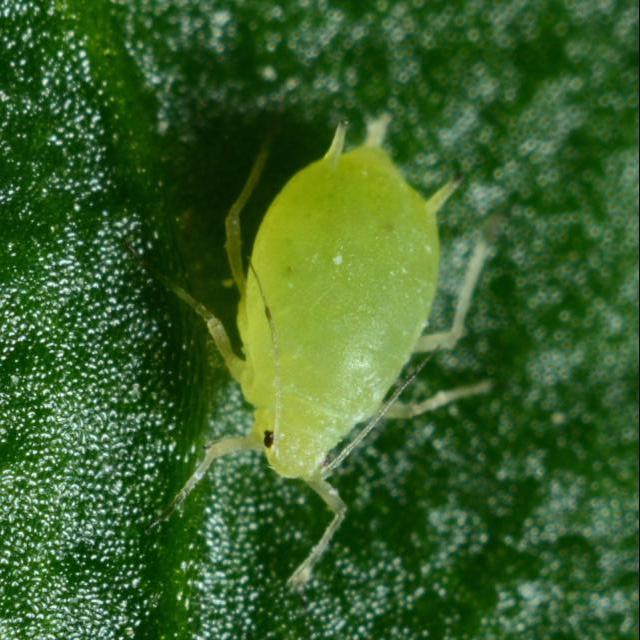aphid: (142, 61, 514, 600)
